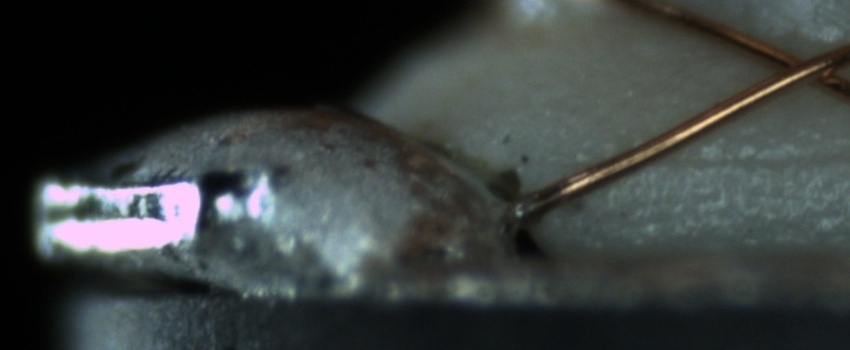CL: (752, 38, 847, 98)
DL: (635, 127, 850, 189)
